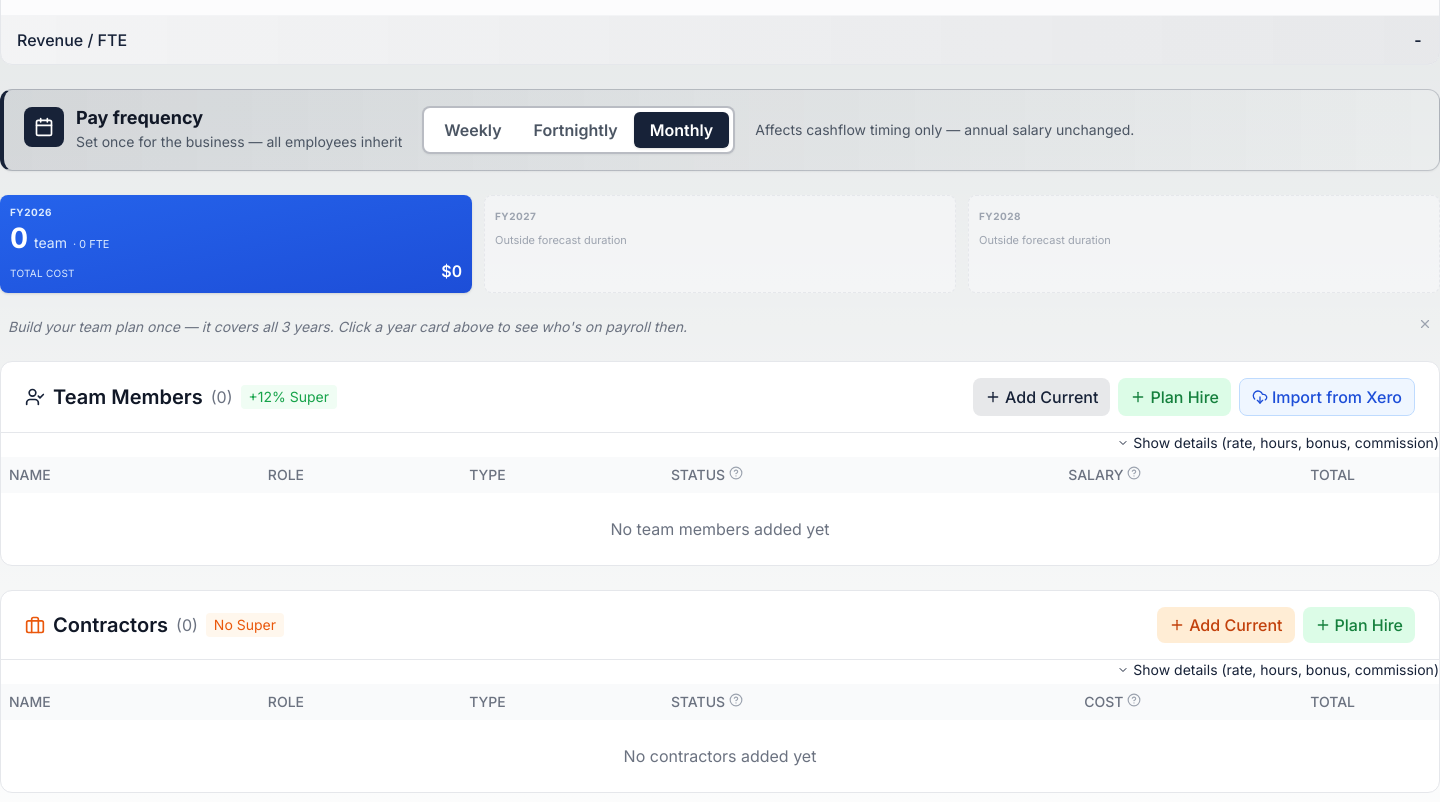
Scenario: Phase 52-01 — Import from Xero modal › Test 16: NO rollup math change — importing $0-salary employee leaves teamCosts unchanged
(page scrolled)
Click the button "Import from Xero": (1327, 397) x1=1239 y1=378 x2=1415 y2=416
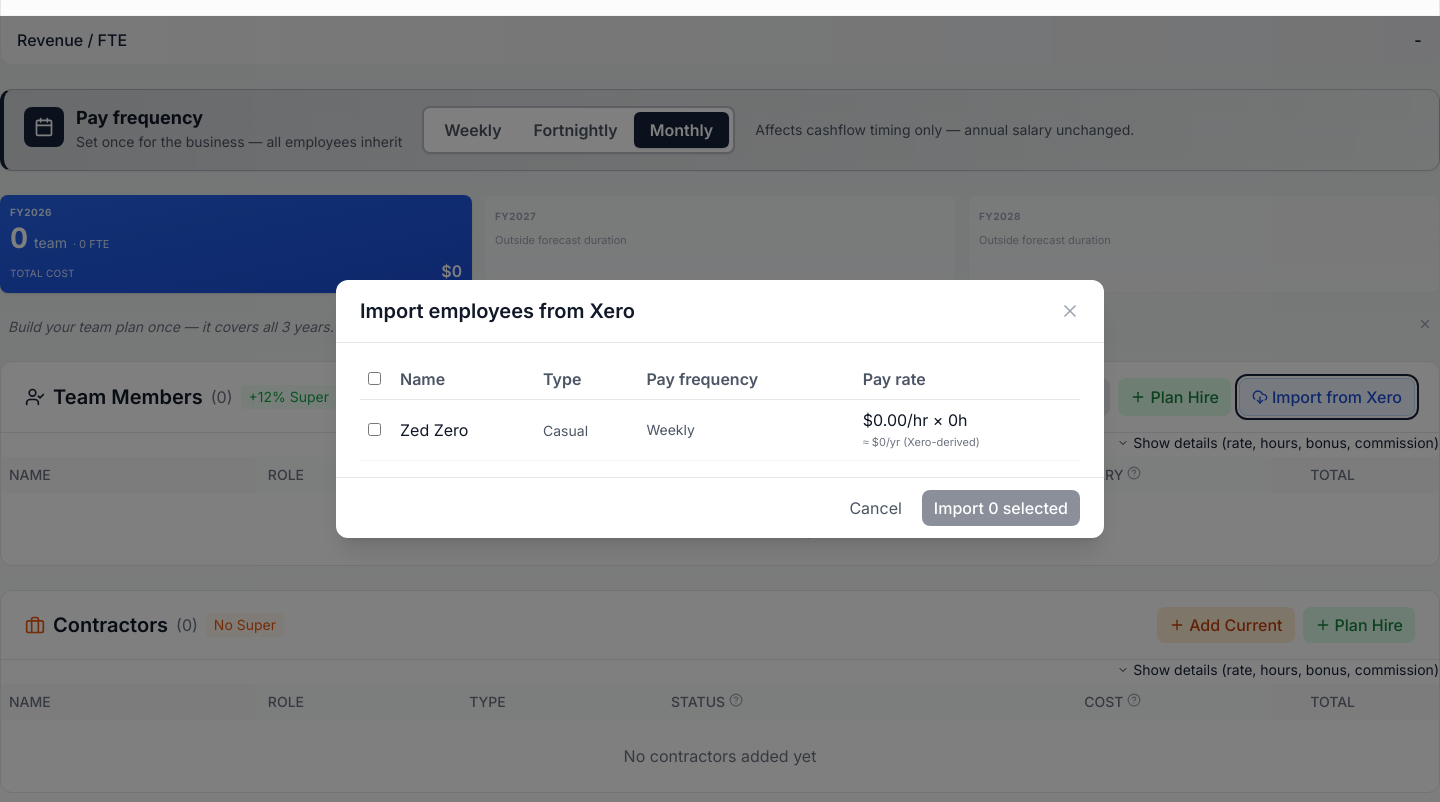
Click the checkbox named "select zed": (374, 430) x1=368 y1=423 x2=381 y2=436
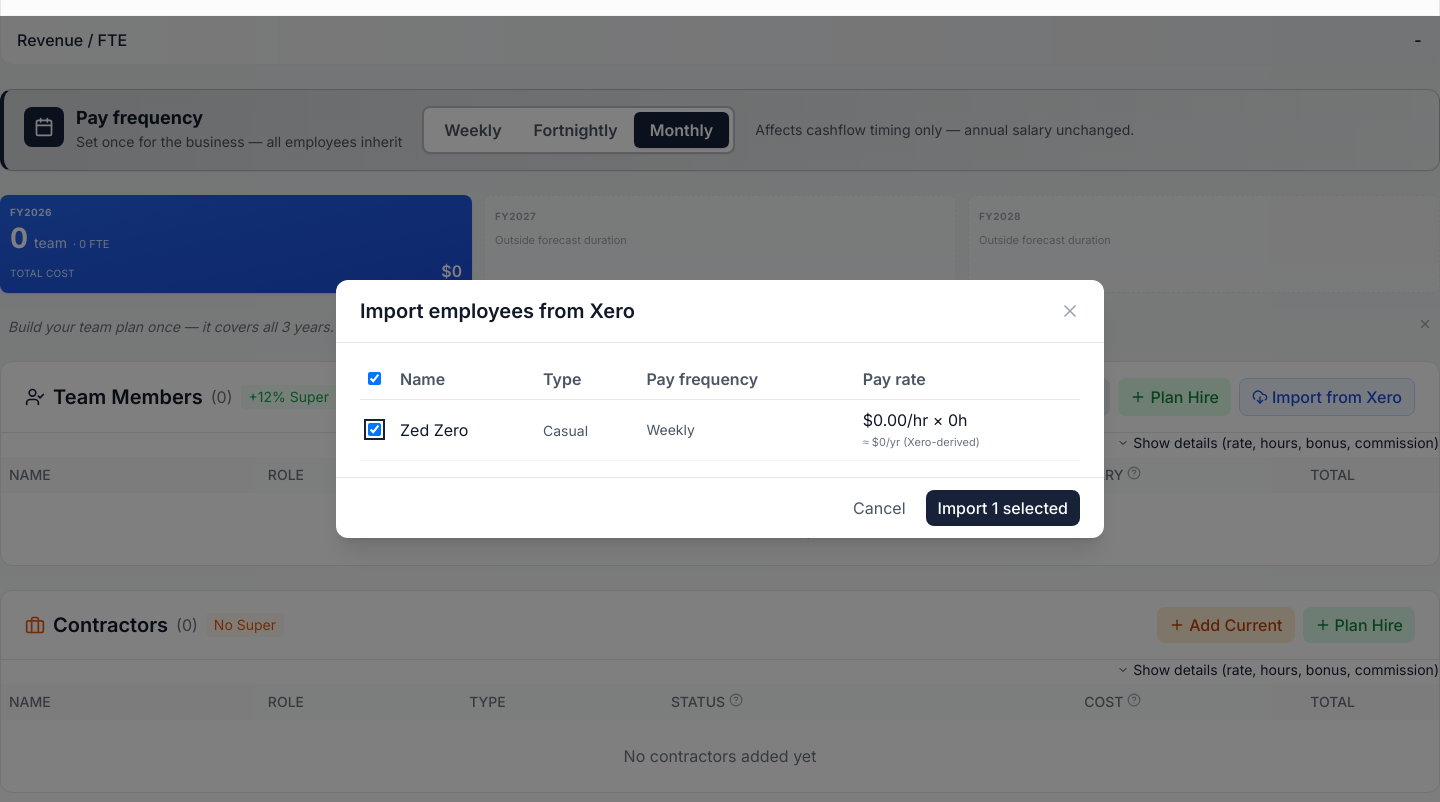
Click the button "Import 1 selected": (1003, 508) x1=926 y1=490 x2=1080 y2=526
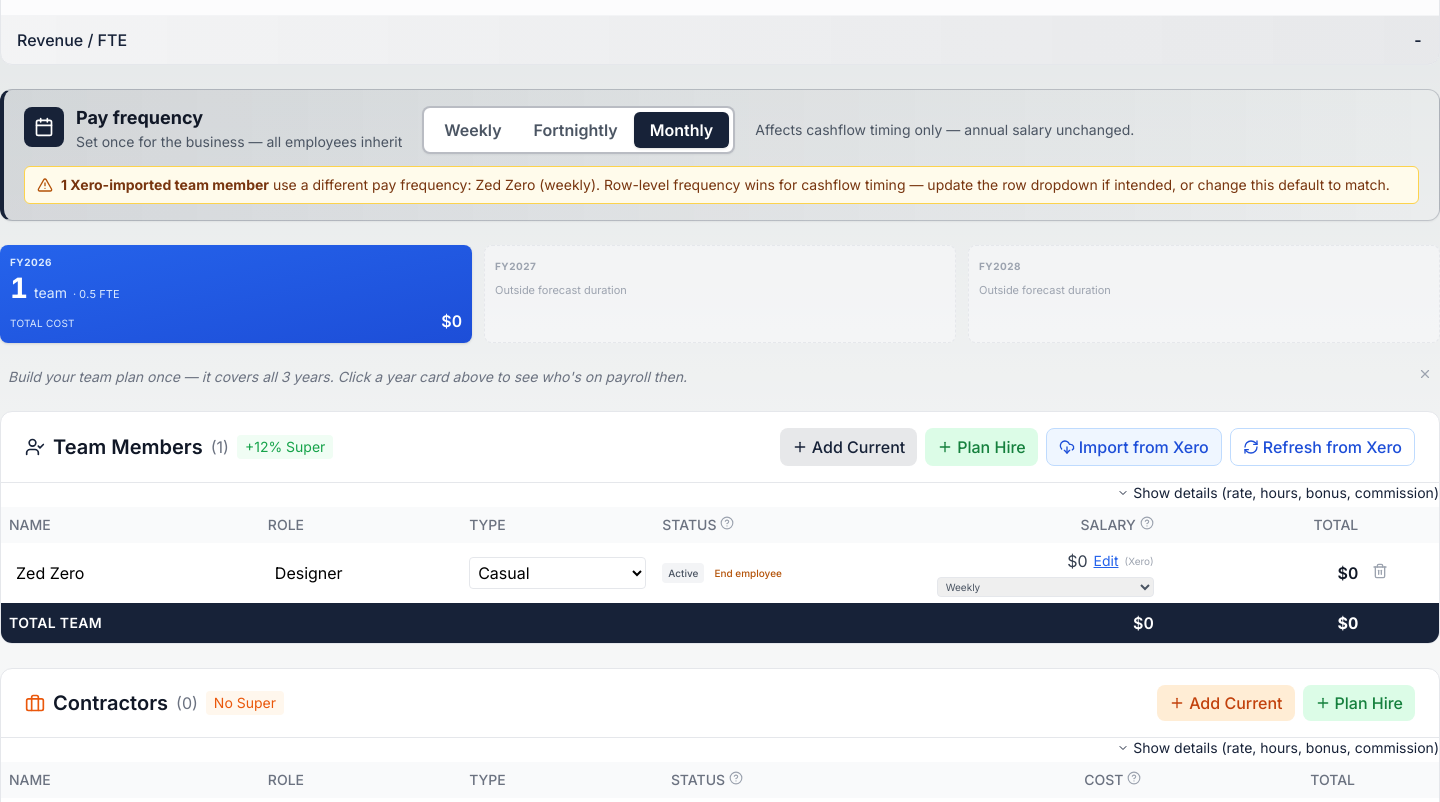
Check: the dialog is gone
